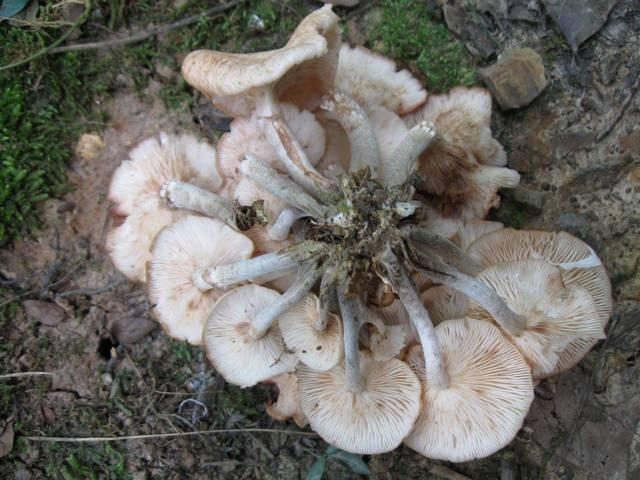Edible Mushroom: (104, 3, 613, 462)
